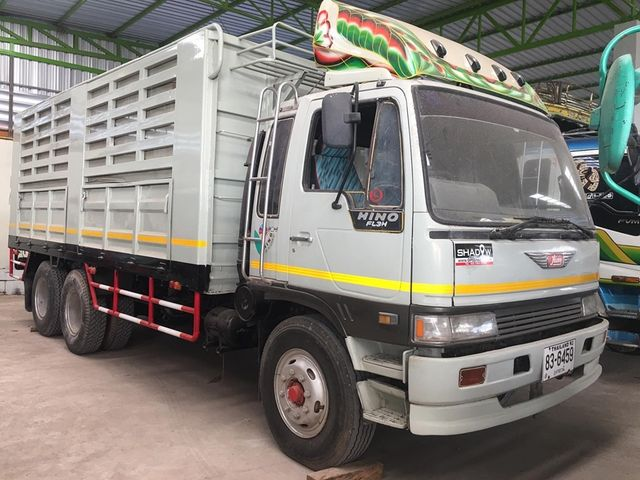truck: (240, 8, 608, 468)
